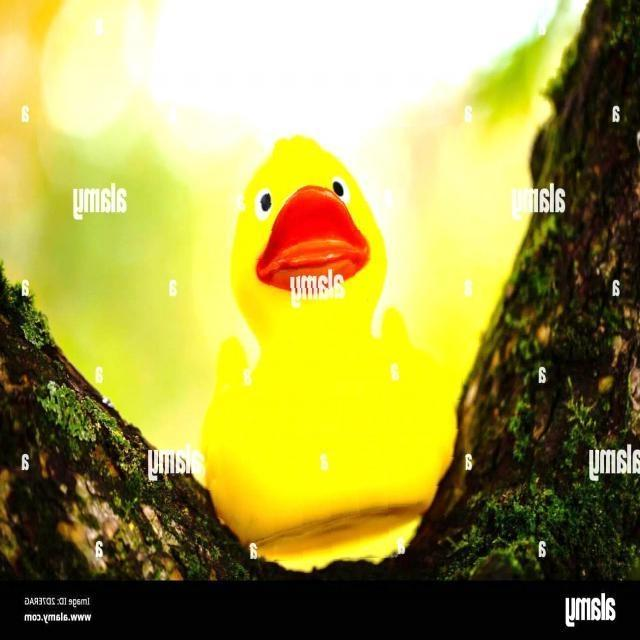rubber-duck: (202, 136, 453, 567)
